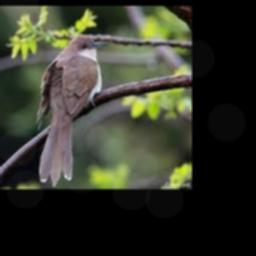Cuckoo: (36, 34, 108, 186)
